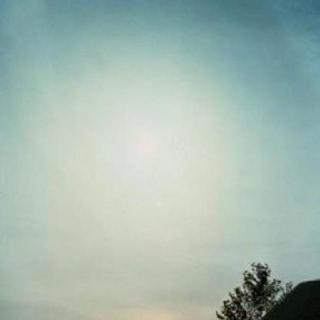Cirrostratus: (0, 0, 318, 272)
